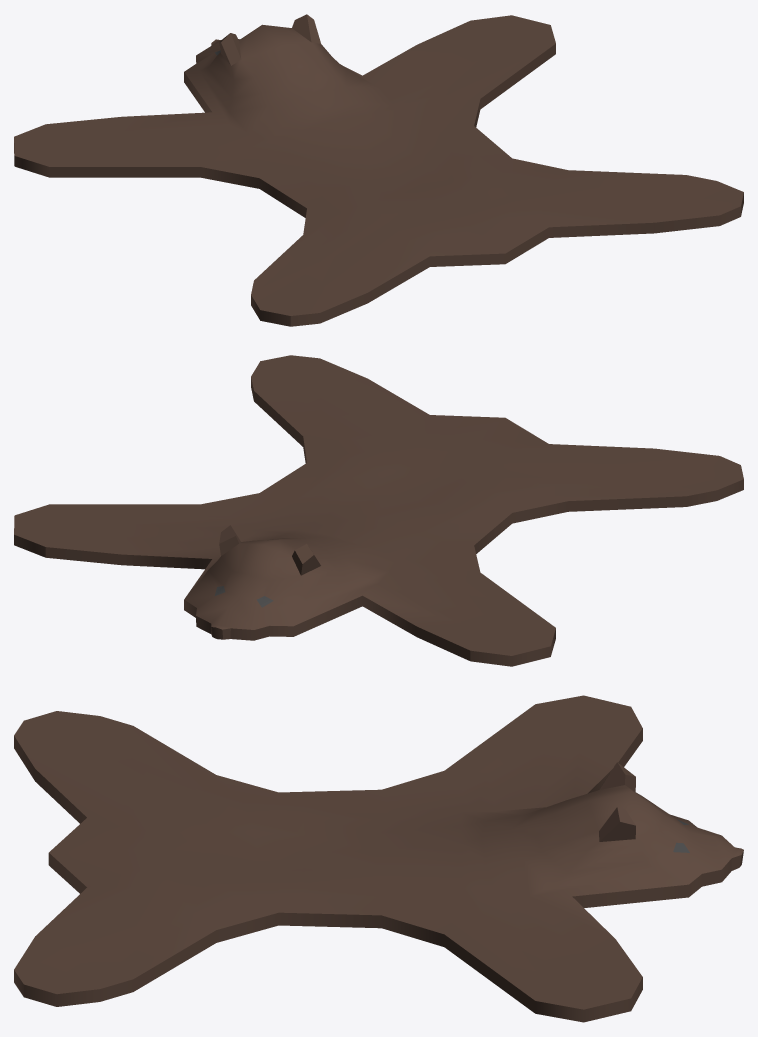
File: rugBear.fbx
The picture shows the model from 3 angles, top to bottom: view 1: azimuth 30°, elevation 25°; view 2: azimuth 150°, elevation 25°; view 3: azimuth 270°, elevation 25°; orthographic projection. The views are drawn at different scales.
Visible parts, largest first — view 1: geo_rugBear; view 2: geo_rugBear; view 3: geo_rugBear.
Boxes of the visible parts, bbox=[...] form: geo_rugBear: bbox=[14, 14, 743, 326]; geo_rugBear: bbox=[14, 355, 743, 666]; geo_rugBear: bbox=[14, 695, 743, 1022].
Bounding box in the file's own units: 931 × 112 × 914.
